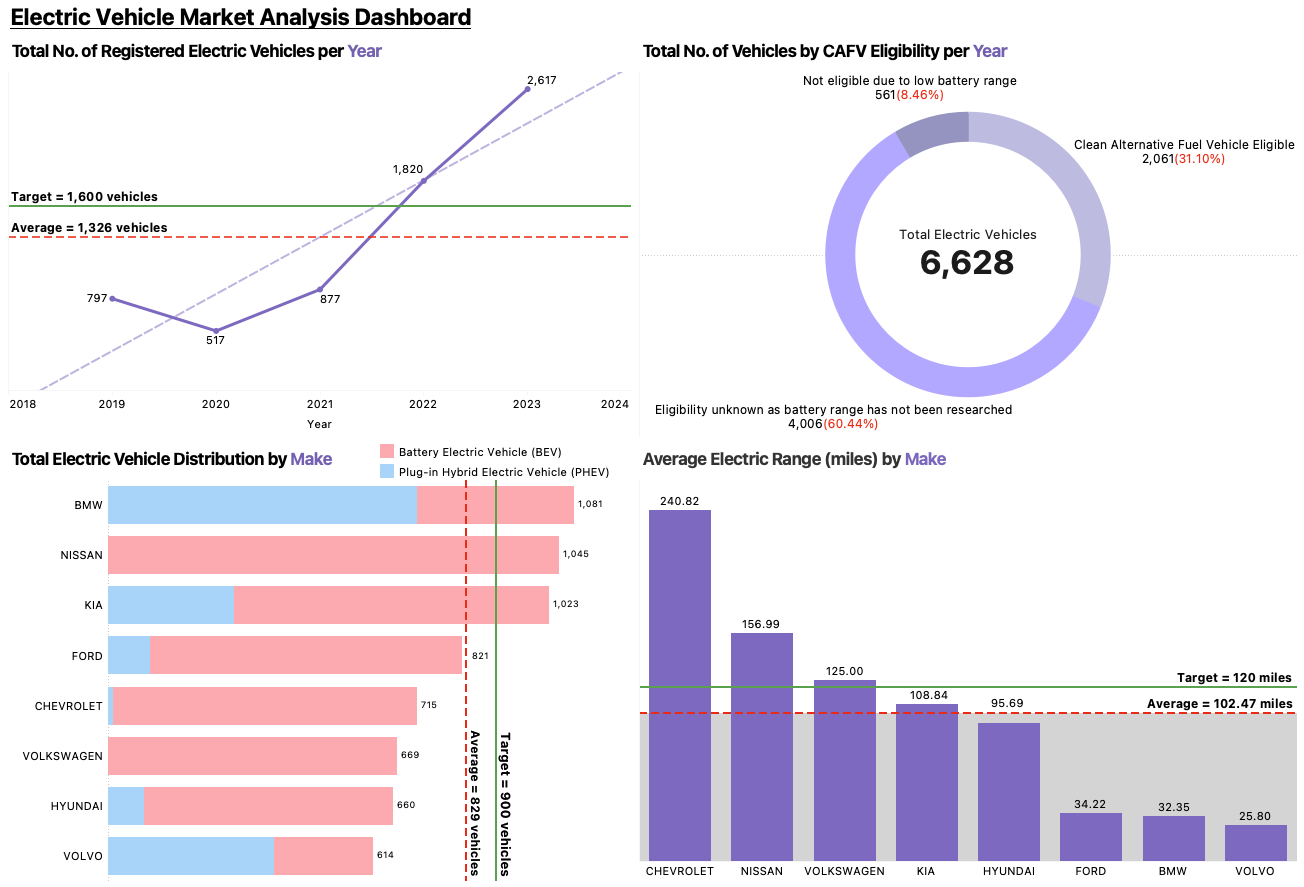

The dashboard page shown, as its layout file describes it:
{"tool":"tableau","page":{"name":"Electric Vehicle Market Analysis Dashboard","canvas":[1500,900],"ordinal":0},"visuals":[{"type":"title","box":[8,8,1484,32]},{"type":"worksheet","title":"Line Chart","mark":"Automatic","rows":["Calculation_3275735414200066057"],"cols":["Year"],"box":[8,40,631,408.4]},{"type":"worksheet","title":"Donut Chart","mark":"Pie","rows":["Calculation_48132224631054336","Calculation_48132224631054336"],"box":[639,40,666,408.4]},{"type":"filter","title":"Donut Chart","param":"[federated.1qogde2165fscm18il0mv1rd7iu4].[none:Model Year:ok]","box":[1305,40,187,138]},{"type":"parameter","param":"[Parameters].[Parameter 2]","box":[1305,178,187,84]},{"type":"parameter","param":"[Parameters].[Parameter 3]","box":[1305,262,187,50]},{"type":"parameter","param":"[Parameters].[Parameter 1]","box":[1305,312,187,50]},{"type":"parameter","param":"[Parameters].[Parameter 4]","box":[1305,362,187,50]},{"type":"legend","title":"Stacked Bar Chart","param":"[federated.1qogde2165fscm18il0mv1rd7iu4].[none:Electric Vehicle Type:nk]","box":[381,448,243,43]},{"type":"worksheet","title":"Stacked Bar Chart","mark":"Bar","rows":["Make"],"cols":["Calculation_3275735414065356800","Calculation_3275735414065356800"],"box":[8,448.4,630.6,443.6]},{"type":"worksheet","title":"Bar Chart","mark":"Automatic","rows":["Electric Range"],"cols":["Make"],"box":[638.6,448.4,666.4,443.6]}]}

Visuals, with their boxes on the page's 1500x900 design canvas (x1, y1, x2, y2). These are canvas units, not pixel positions in the 1304x887 screenshot, which may show the page scaled, cropped or inside an application window:
title: select_region(8, 8, 1492, 40)
"Line Chart" worksheet: select_region(8, 40, 639, 448)
"Donut Chart" worksheet (Pie marks): select_region(639, 40, 1305, 448)
"Donut Chart" filter: select_region(1305, 40, 1492, 178)
parameter: select_region(1305, 178, 1492, 262)
parameter: select_region(1305, 262, 1492, 312)
parameter: select_region(1305, 312, 1492, 362)
parameter: select_region(1305, 362, 1492, 412)
"Stacked Bar Chart" legend: select_region(381, 448, 624, 491)
"Stacked Bar Chart" worksheet (Bar marks): select_region(8, 448, 639, 892)
"Bar Chart" worksheet: select_region(639, 448, 1305, 892)
